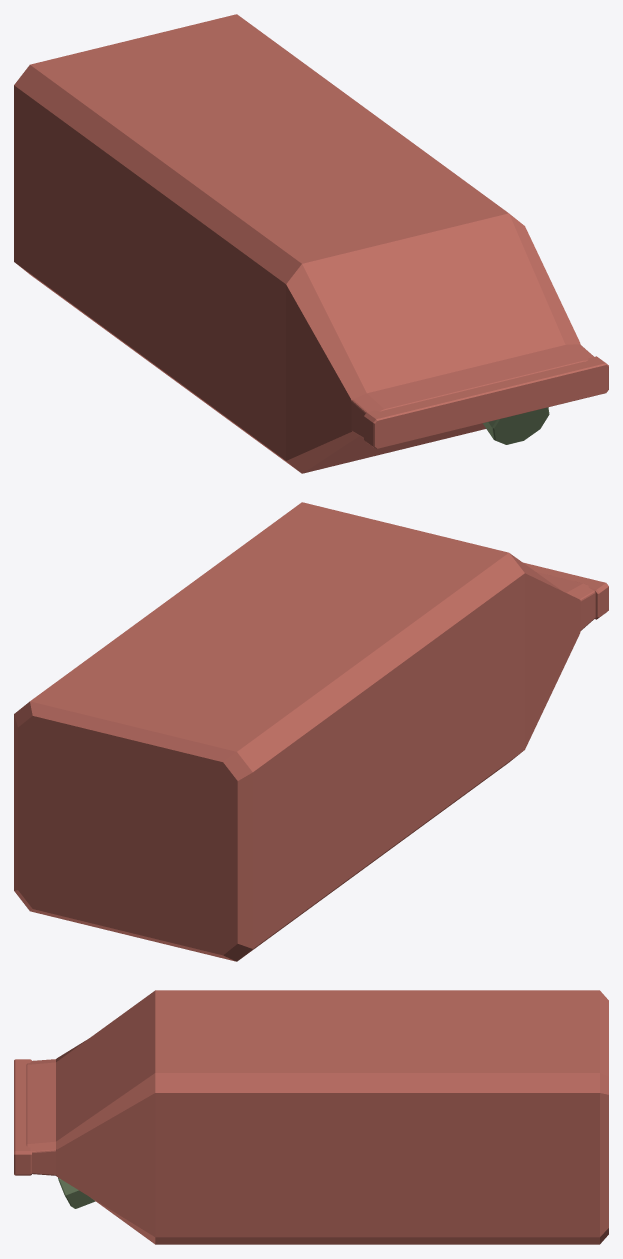
File: tomato_juice.glb
The picture shows the model from 3 angles, top to bottom: view 1: azimuth 30°, elevation 25°; view 2: azimuth 150°, elevation 25°; view 3: azimuth 270°, elevation 25°; orthographic projection. The views are drawn at different scales.
Parts seen in each view (by area): view 1: tomato_juice; view 2: tomato_juice; view 3: tomato_juice.
Part boxes in pixels (x1,y1,x2,y2): tomato_juice: [14, 14, 608, 473]; tomato_juice: [14, 502, 608, 961]; tomato_juice: [14, 990, 608, 1244].
Size of the model in its own units: 0.075 by 0.0672 by 0.198.
